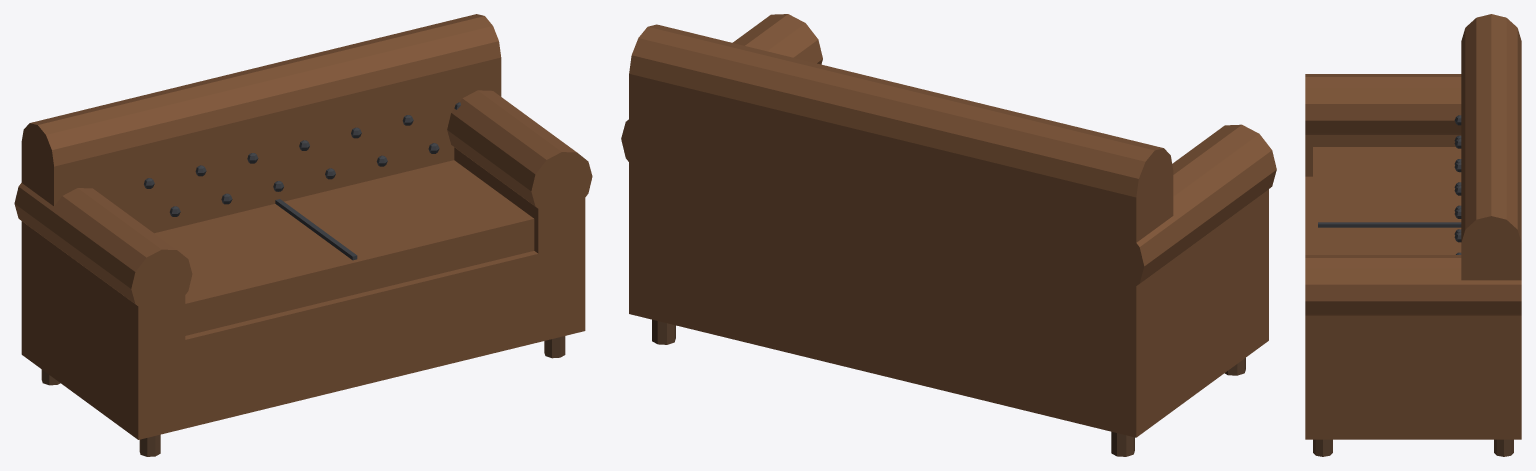
Rendered from leather_sofa.glb.
3 views of the same model, side by side, from view 1: azimuth 30°, elevation 25°; view 2: azimuth 150°, elevation 25°; view 3: azimuth 270°, elevation 25° (orthographic). The views are drawn at different scales.
Visible parts, largest first — view 1: leather_sofa; view 2: leather_sofa; view 3: leather_sofa.
Boxes of the visible parts, x1,y1,x2,y2 form: leather_sofa: (14, 14, 592, 456); leather_sofa: (621, 14, 1276, 456); leather_sofa: (1305, 14, 1521, 456).
Bounding box in the file's own units: 1.96 × 1.08 × 0.86.
